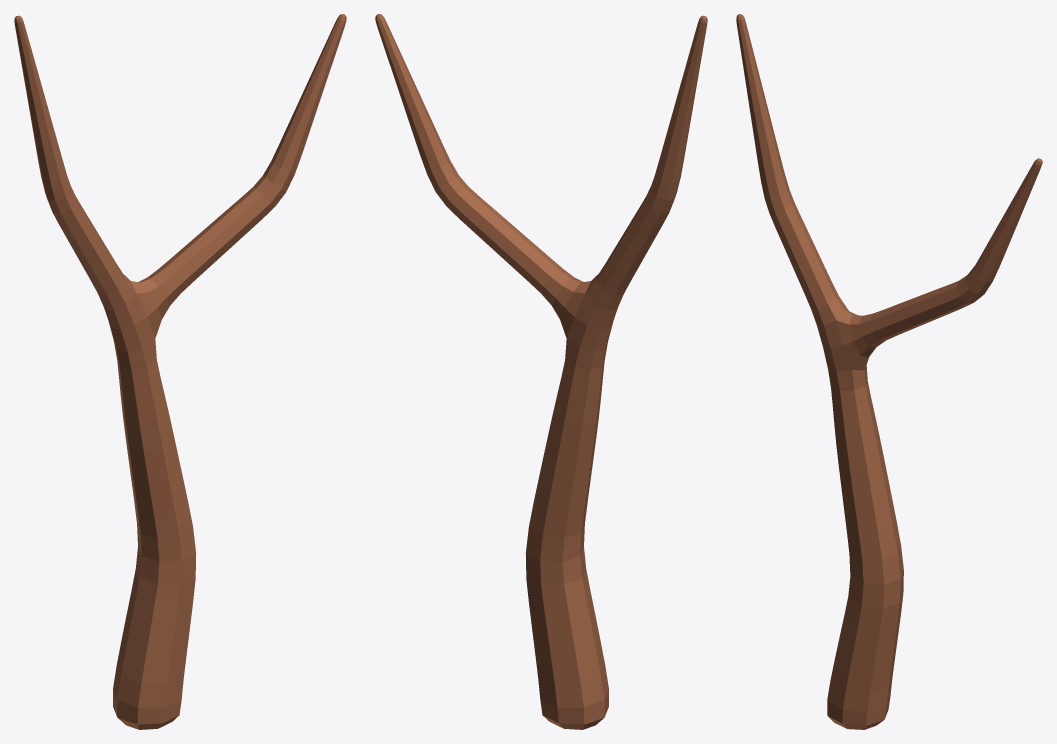
Rendered from tree1.glb.
The picture shows the model from 3 angles, left to right: view 1: azimuth 30°, elevation 25°; view 2: azimuth 150°, elevation 25°; view 3: azimuth 330°, elevation 25°; orthographic projection. The views are drawn at different scales.
Visible parts, largest first — view 1: tree1; view 2: tree1; view 3: tree1.
Boxes of the visible parts, x1=… form: tree1: x1=14, y1=14, x2=346, y2=729; tree1: x1=375, y1=14, x2=707, y2=729; tree1: x1=736, y1=14, x2=1042, y2=729.
Bounding box in the file's own units: 0.5808 × 1.24 × 0.1053.
Materials: 1 (1 with a texture image).
